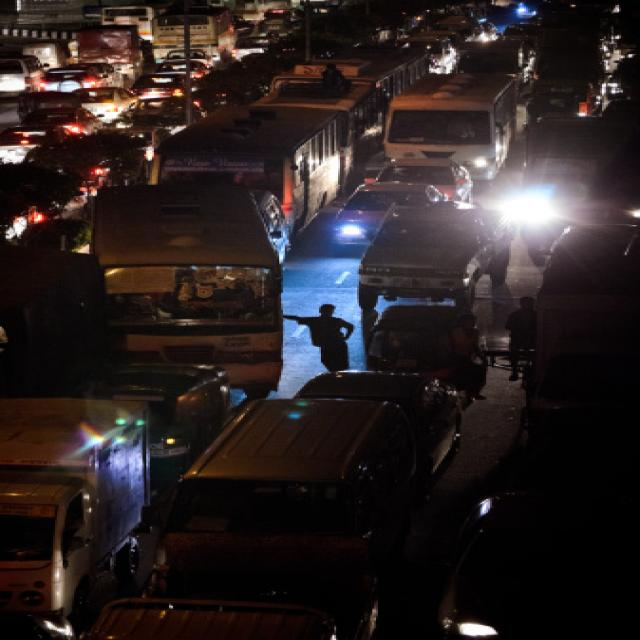Bus: (81, 172, 295, 391), (157, 385, 422, 560), (0, 376, 148, 625), (165, 86, 347, 257), (385, 65, 514, 180)
People: (285, 302, 369, 381), (492, 287, 555, 382)
car: (351, 193, 528, 298), (355, 290, 497, 375), (323, 167, 425, 257), (30, 52, 141, 110)
